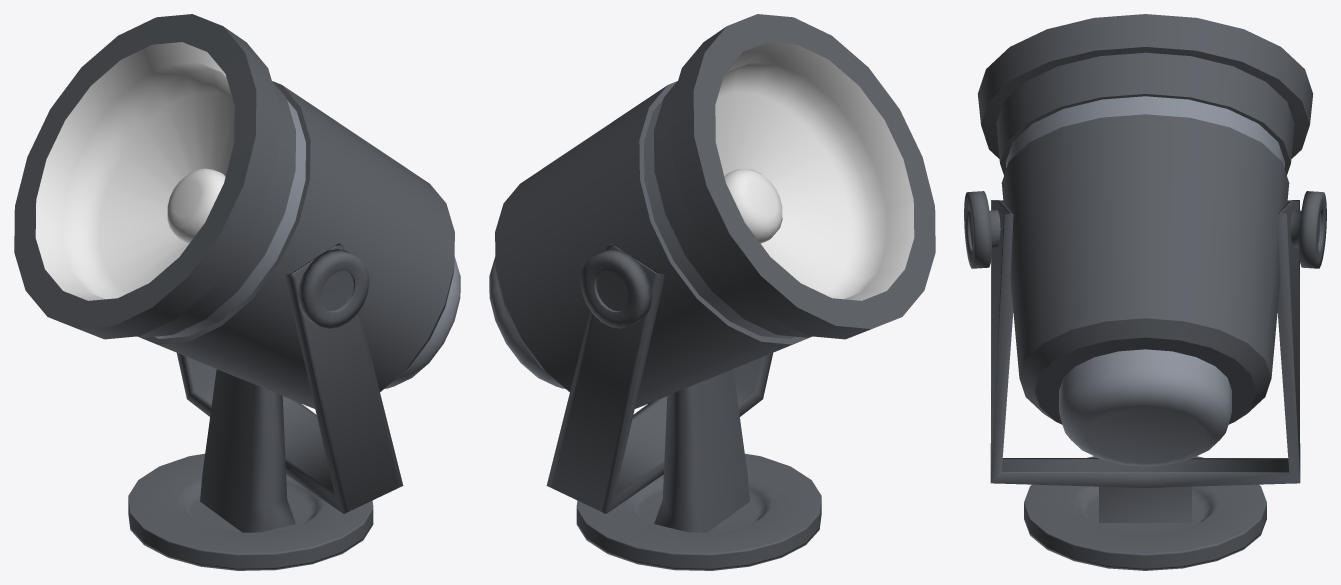
File: SpotLight.fbx
3 views of the same model, side by side, from view 1: azimuth 30°, elevation 25°; view 2: azimuth 150°, elevation 25°; view 3: azimuth 270°, elevation 25° (orthographic).
Visible parts, largest first — view 1: SpotLight, SpotBase, Handle; view 2: SpotLight, SpotBase, Handle; view 3: SpotLight, Handle, SpotBase.
Part boxes in pixels (x1=…): SpotLight: x1=14, y1=14, x2=460, y2=408; SpotBase: x1=128, y1=369, x2=373, y2=570; Handle: x1=177, y1=243, x2=403, y2=513; SpotLight: x1=489, y1=14, x2=935, y2=408; SpotBase: x1=576, y1=369, x2=821, y2=570; Handle: x1=546, y1=243, x2=772, y2=513; SpotLight: x1=977, y1=14, x2=1313, y2=466; Handle: x1=964, y1=191, x2=1326, y2=487; SpotBase: x1=1024, y1=456, x2=1266, y2=570.
Bounding box in the file's own units: 1.19 × 1.43 × 0.953.
